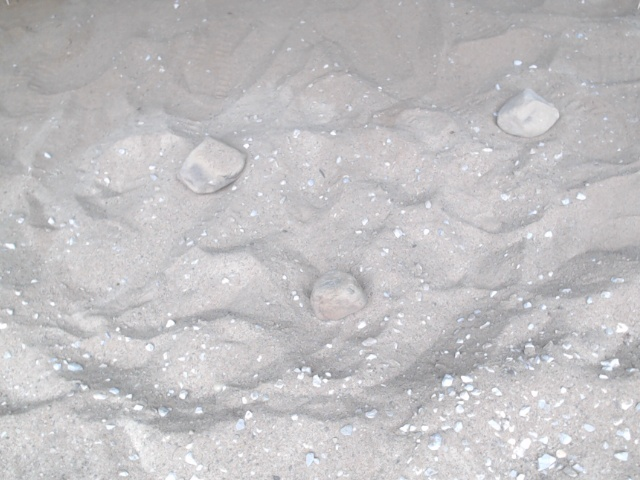rock: (173, 133, 251, 198), (492, 85, 564, 141), (304, 267, 371, 326)
